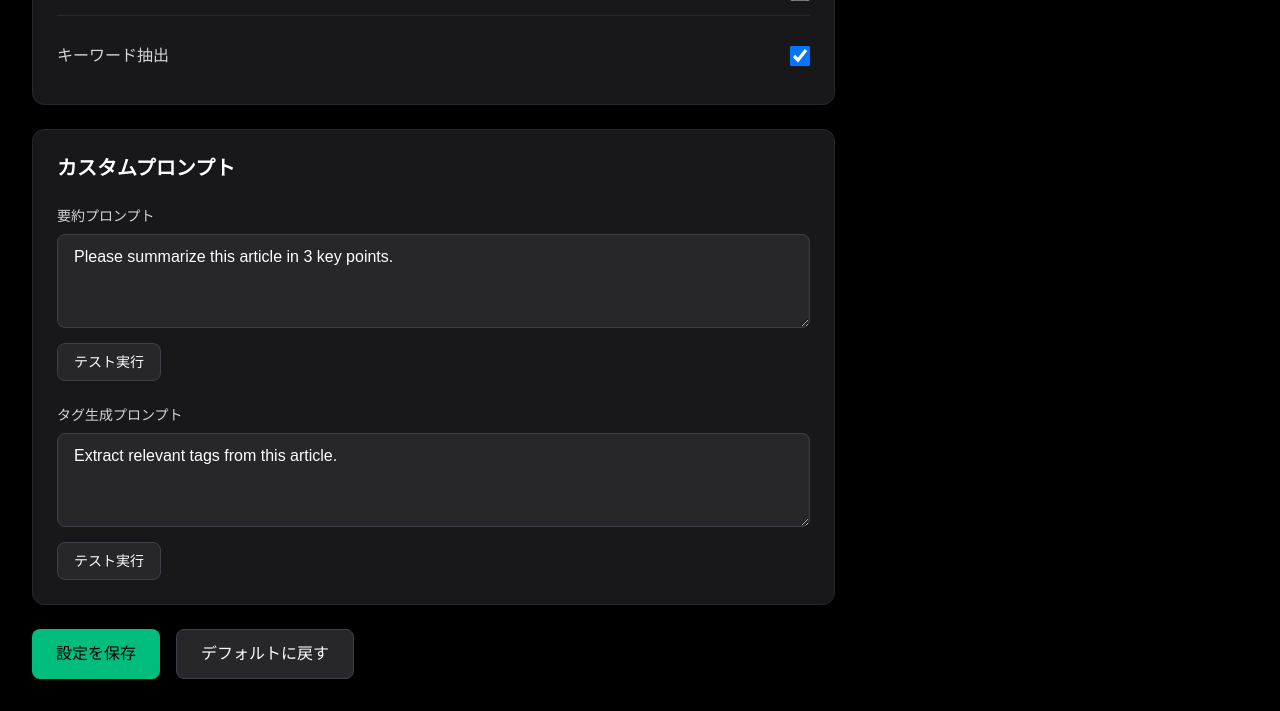
Scenario: AISettingsPage › should test AI prompt
(page scrolled)
Note: Click test button for summary prompt to open modal
Step 1. Click the button "テスト実行" below "要約プロンプト" → point(109, 362), box 57,343 -> 161,381
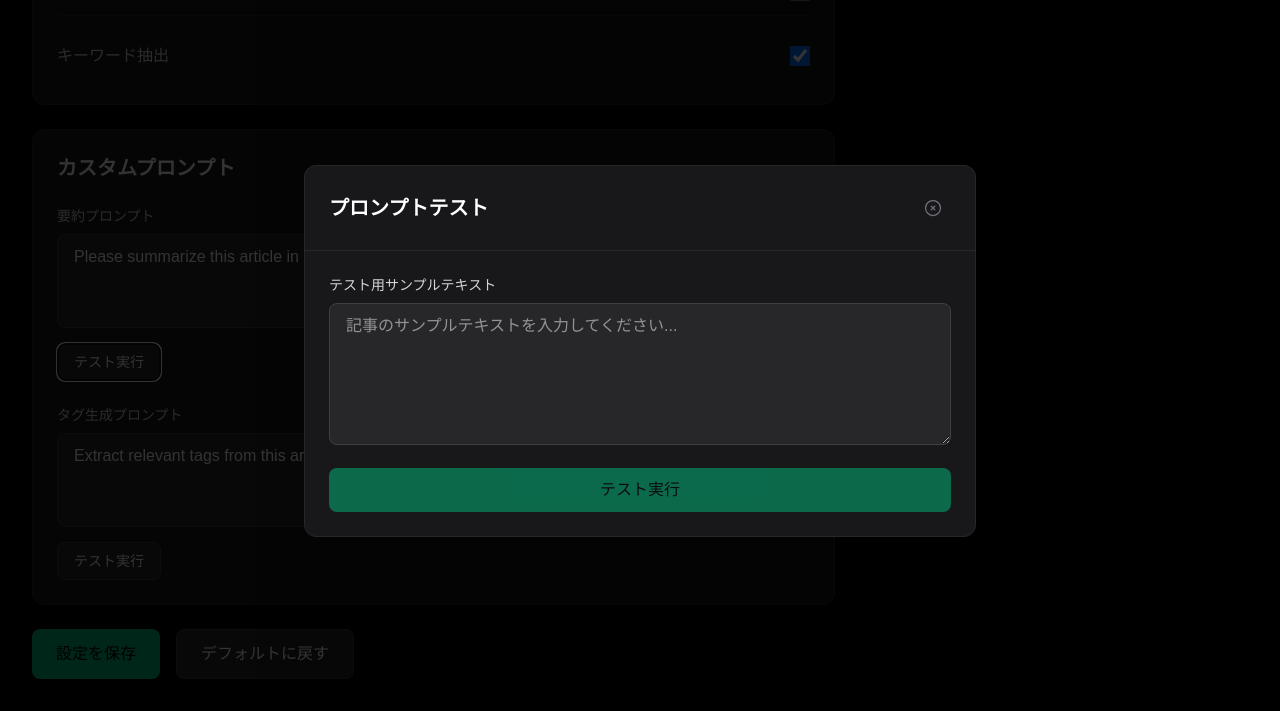
Expected: the heading "プロンプトテスト" is shown, 329,194 -> 488,222
Note: Enter sample text
Step 2. Type "This is a sample article text for testing." into the text box labelled "テスト用サンプルテキスト" → point(640, 374), box 329,303 -> 951,445
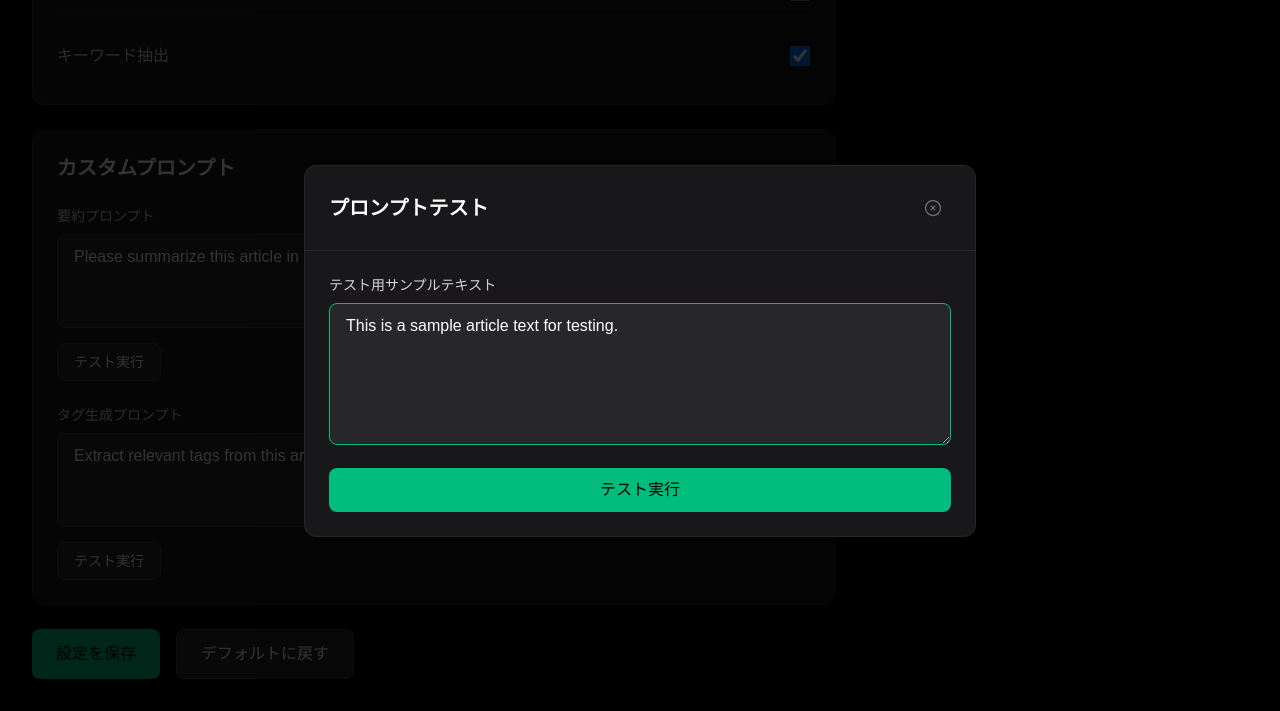
Note: The last one should be the button in the modal
Step 3. Click the button "テスト実行" → point(640, 490), box 329,468 -> 951,512
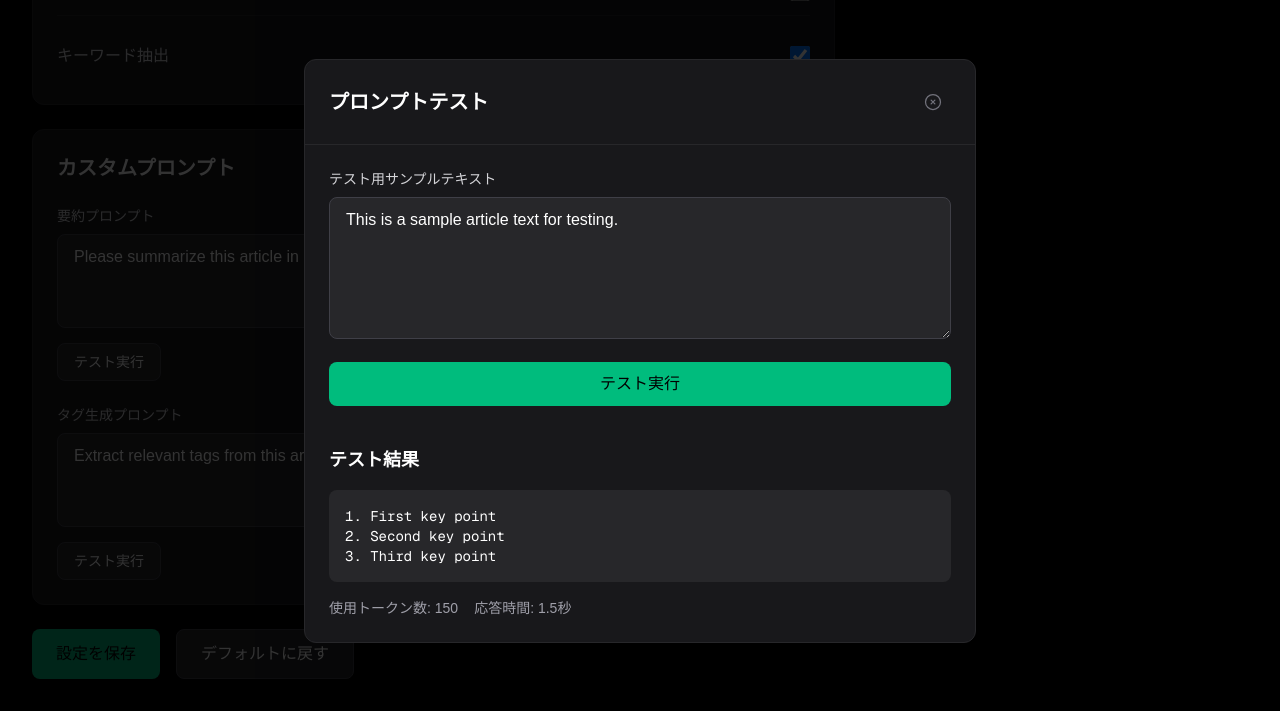
Expected: the heading "テスト結果" is shown, 329,450 -> 419,470
Expected: the text "1. First key point 2. Second key point 3. Third key point" is shown, 345,507 -> 505,565
Expected: the text "使用トークン数: 150" is shown, 329,598 -> 458,618
